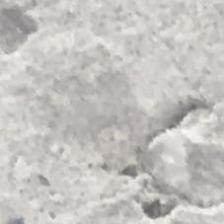Non_Crack: (27, 18, 224, 176)
